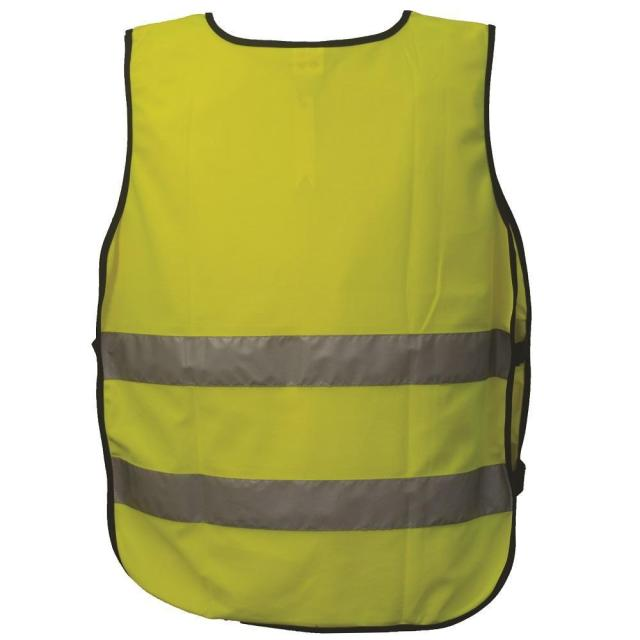Vest: (90, 9, 532, 632)
